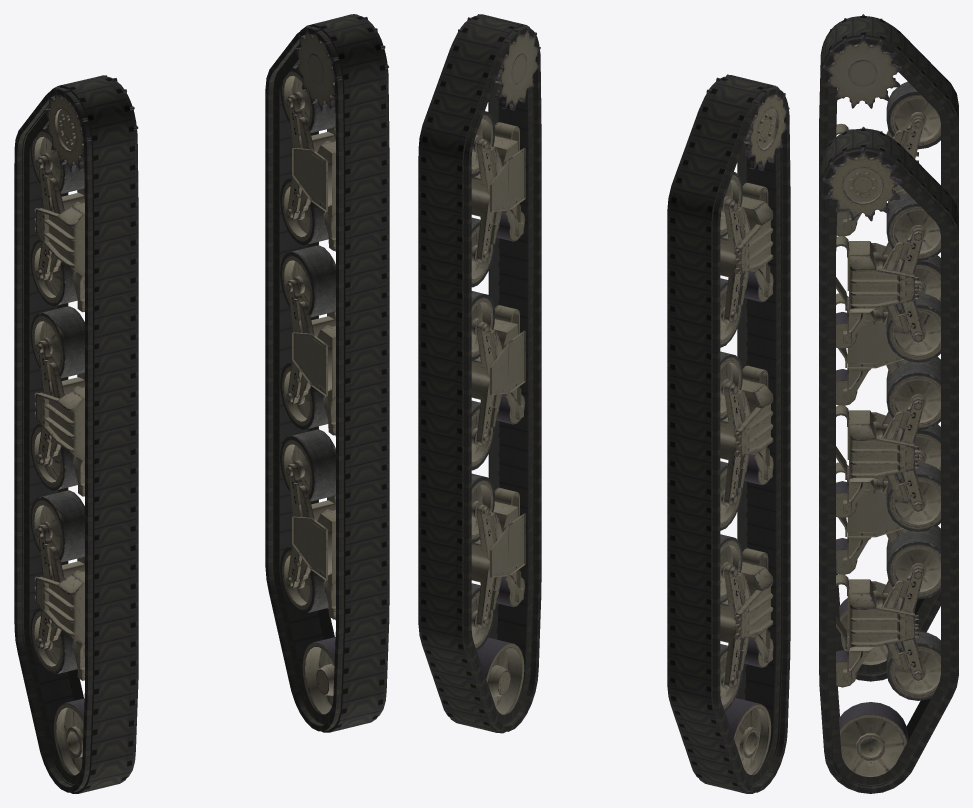
Rendered from Chassis.glb.
3 views of the same model, side by side, from view 1: azimuth 30°, elevation 25°; view 2: azimuth 150°, elevation 25°; view 3: azimuth 270°, elevation 25° (orthographic). The views are drawn at different scales.
Visible parts, largest first — view 1: set_1_group_0, set_0_group_0, set_3_group_0, set_2_group_0; view 2: set_1_group_0, set_0_group_0, set_3_group_0, set_2_group_0; view 3: set_3_group_0, set_0_group_0, set_2_group_0, set_1_group_0.
Boxes of the visible parts, left/top/right/bottom form: set_1_group_0: left=14, top=75, right=138, bottom=793; set_0_group_0: left=265, top=14, right=389, bottom=732; set_3_group_0: left=280, top=14, right=388, bottom=714; set_2_group_0: left=30, top=75, right=138, bottom=775; set_1_group_0: left=667, top=75, right=790, bottom=793; set_0_group_0: left=418, top=14, right=541, bottom=733; set_3_group_0: left=458, top=14, right=540, bottom=714; set_2_group_0: left=706, top=74, right=789, bottom=774; set_3_group_0: left=823, top=126, right=940, bottom=777; set_0_group_0: left=819, top=128, right=958, bottom=793; set_2_group_0: left=823, top=14, right=940, bottom=665; set_1_group_0: left=819, top=16, right=958, bottom=681.
Size of the model in its own units: 2.58 by 5.71 by 1.12.
Materials: 4 (4 with a texture image).
